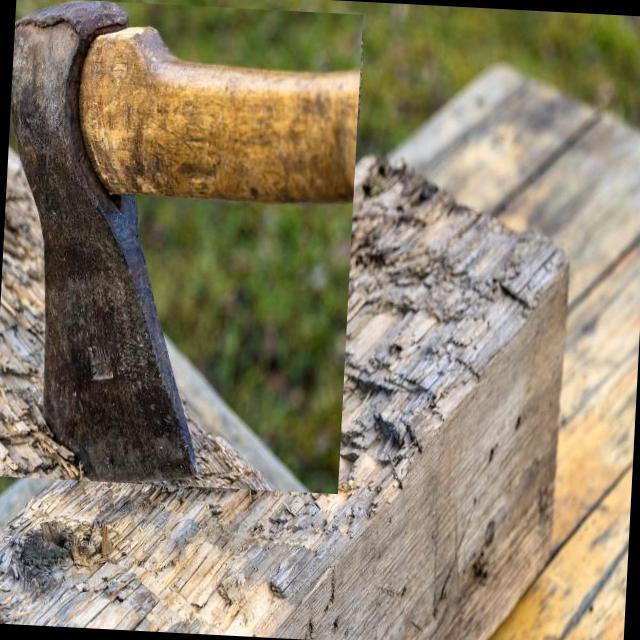Axe: (14, 2, 360, 483)
